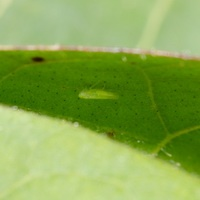insect: (78, 89, 117, 98)
